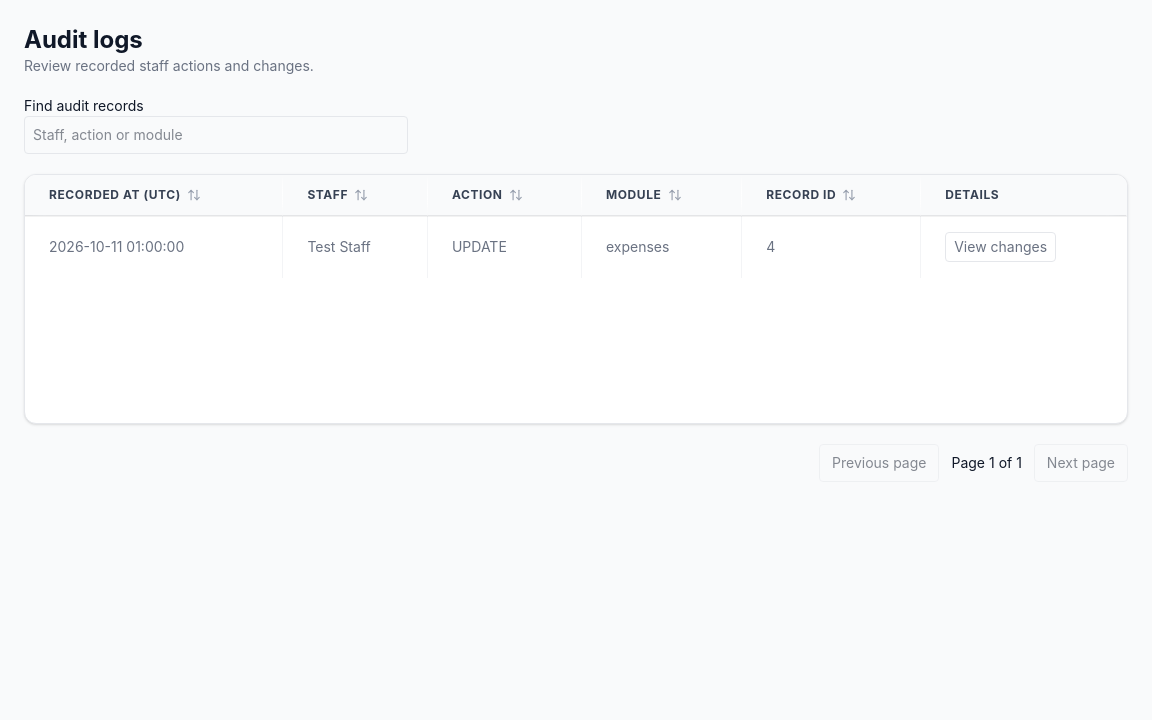
displays the actual audit response fields and safe change snapshots
The image size is (1152, 720).
Expected: the text "Test Staff" is shown, [283,216,427,278]
Click the button with aria-label "View audit 8" at (1001, 247), box [945,232,1056,262]
(page scrolled)
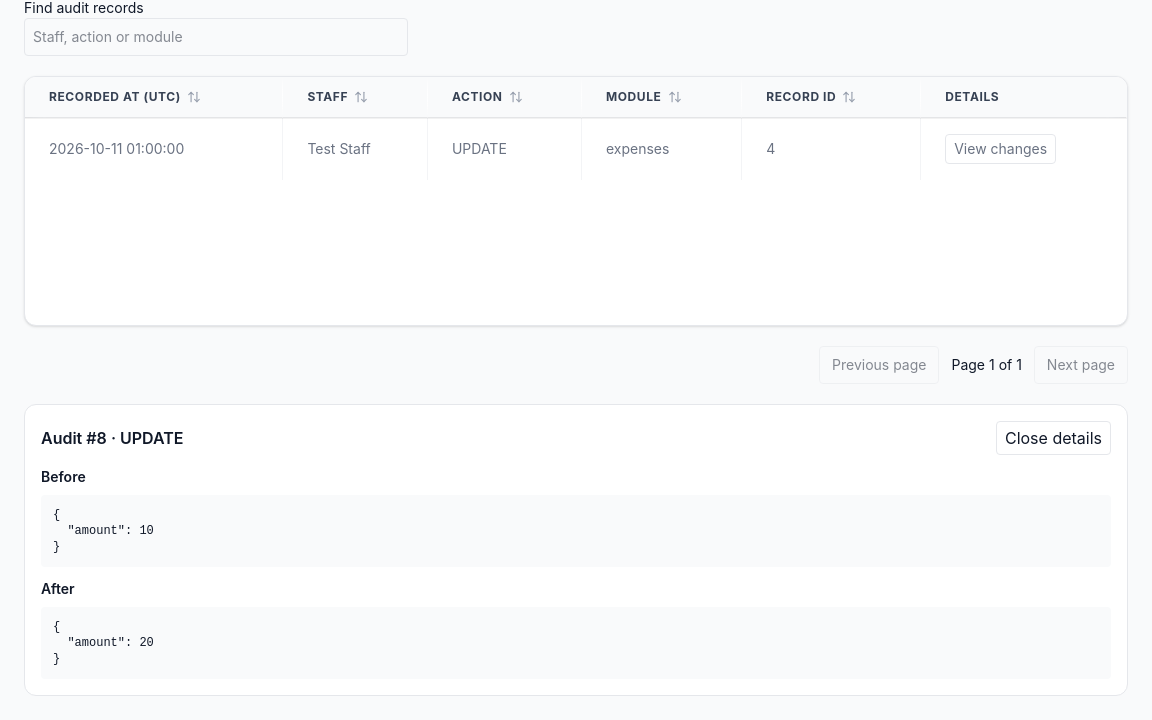
Expected: the text "{ \"amount\": 20 }" is shown, [41,607,1111,679]
